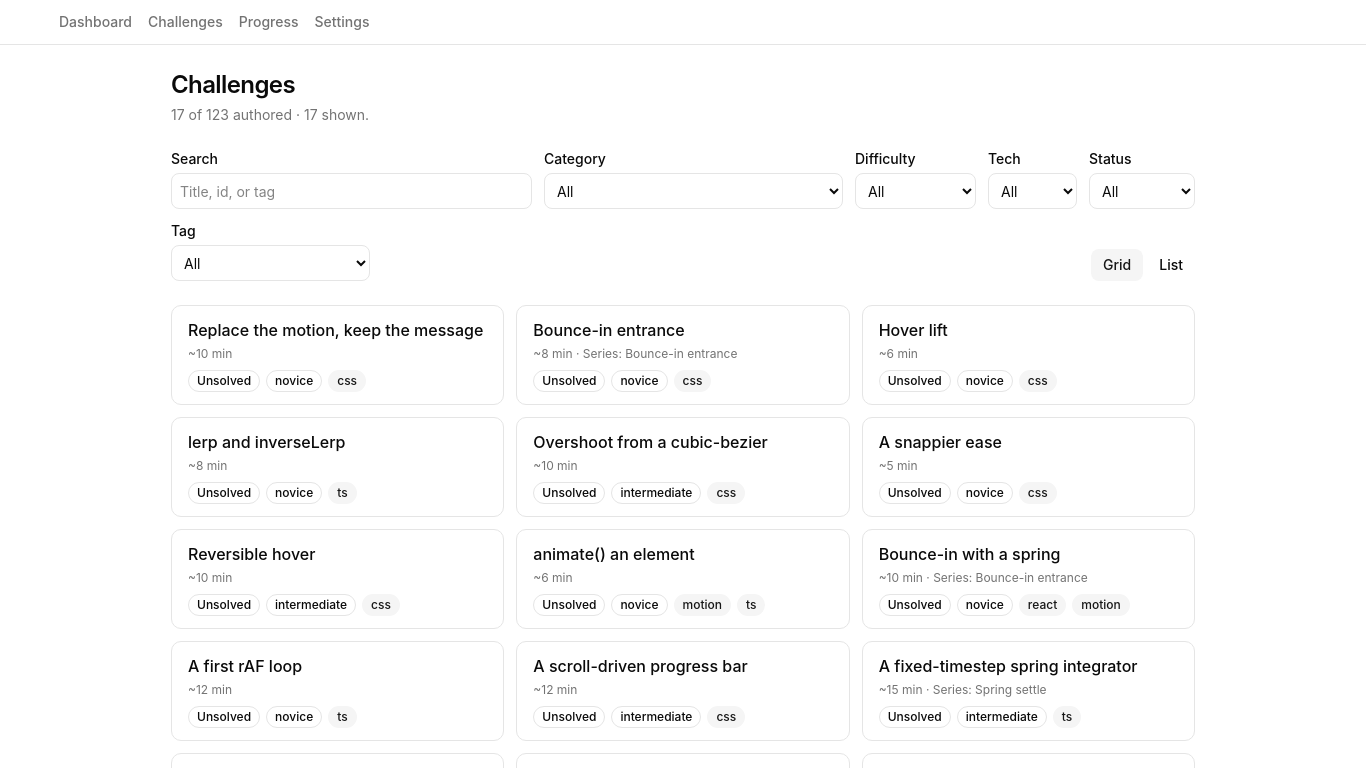
Test: CatalogPage › shows solved status from the repository join
Expected: the link "Hover lift ~6 min Unsolved novice css" is shown, x1=862 y1=305 x2=1195 y2=405
Select "solved" in the dropdown labelled "Status" at {"x": 1142, "y": 191}, box x1=1089 y1=173 x2=1195 y2=209
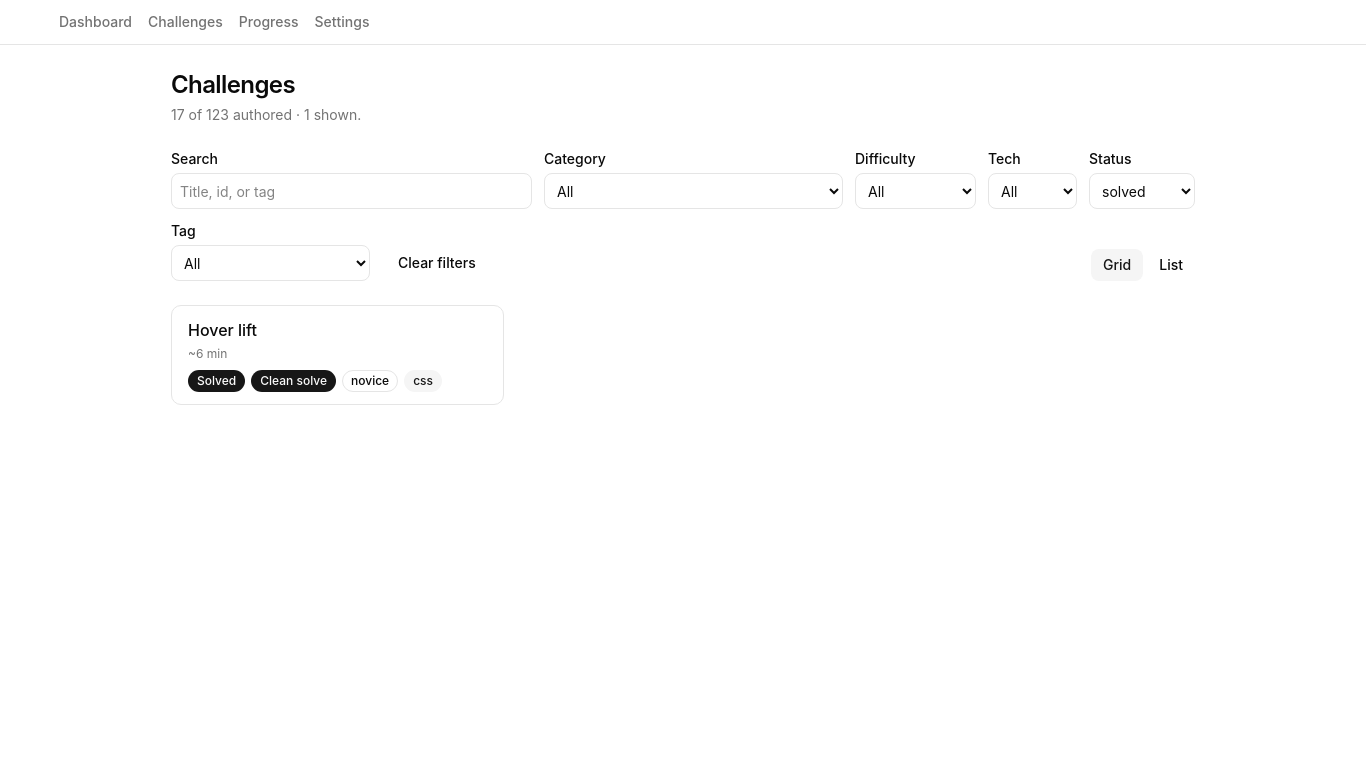
Expected: the text "Solved" is shown, x1=188 y1=370 x2=245 y2=392
Expected: the text "Clean solve" is shown, x1=251 y1=370 x2=336 y2=392
